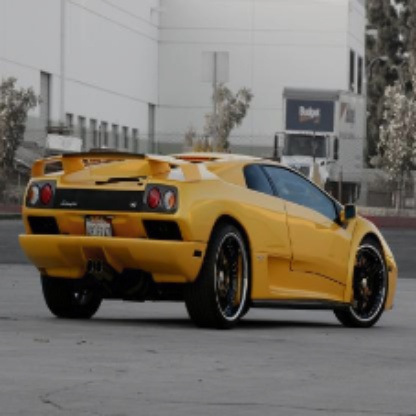Vehicle: (21, 146, 400, 329)
